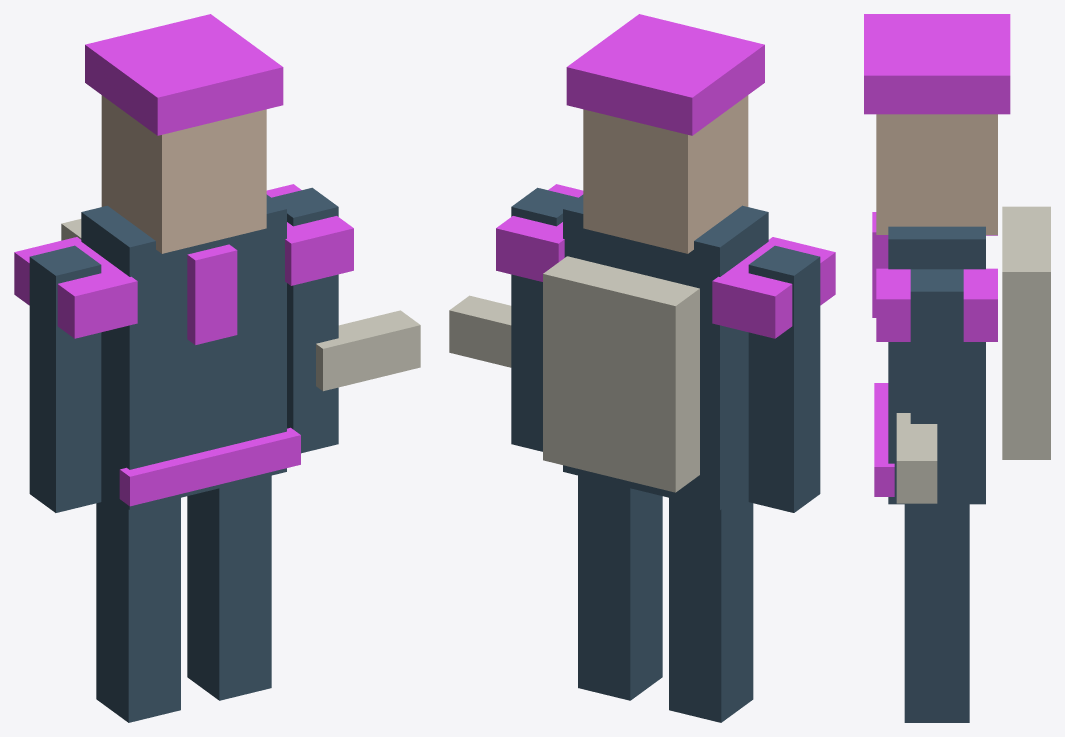
Rendered from 20_keir_glassroot_fixer_at_corporate.glb.
The picture shows the model from 3 angles, left to right: view 1: azimuth 30°, elevation 25°; view 2: azimuth 150°, elevation 25°; view 3: azimuth 270°, elevation 25°; orthographic projection.
Visible parts, largest first — view 1: Keir Glassroot, Fixer at Corporate; view 2: Keir Glassroot, Fixer at Corporate; view 3: Keir Glassroot, Fixer at Corporate.
Part boxes in pixels (left/top/right/bottom): Keir Glassroot, Fixer at Corporate: left=14, top=14, right=420, bottom=722; Keir Glassroot, Fixer at Corporate: left=449, top=14, right=835, bottom=722; Keir Glassroot, Fixer at Corporate: left=864, top=14, right=1050, bottom=722.
Bounding box in the file's own units: 0.9989 × 1.7 × 0.4483.
